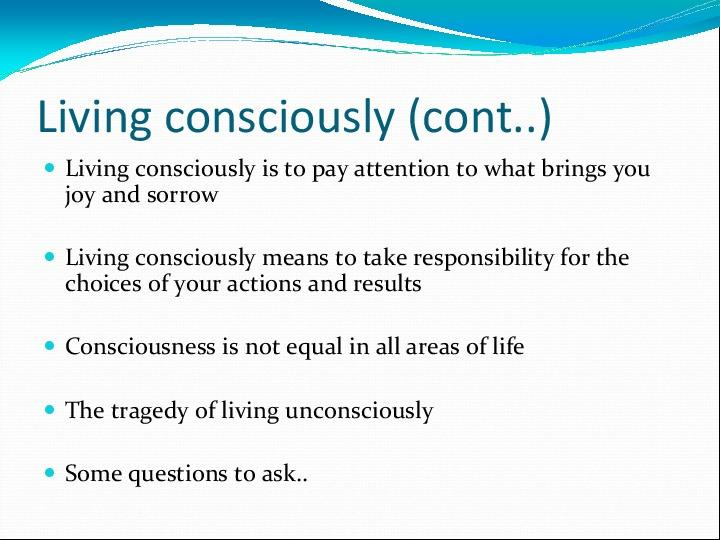paragraph: (30, 147, 690, 507)
title: (18, 82, 577, 151)
